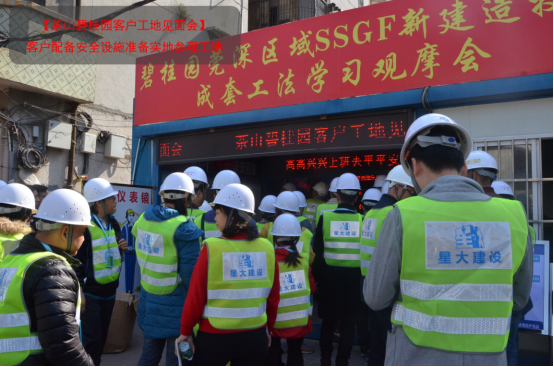person: (362, 111, 535, 367), (174, 184, 282, 367), (1, 187, 95, 367), (129, 171, 204, 367), (312, 173, 365, 367), (82, 177, 124, 367), (270, 212, 316, 367)
reflective_vest: (389, 196, 529, 354), (1, 249, 83, 367), (200, 236, 275, 331), (130, 210, 190, 295), (274, 258, 310, 329), (321, 210, 365, 268), (359, 206, 393, 276), (88, 219, 124, 285)
safety_helmet: (400, 111, 474, 193), (28, 188, 95, 257), (213, 183, 256, 234), (158, 171, 197, 212), (1, 181, 37, 224), (83, 177, 120, 218), (464, 150, 500, 188), (270, 212, 304, 249), (384, 164, 418, 200), (182, 165, 210, 208), (210, 169, 241, 198), (334, 173, 360, 206), (272, 190, 300, 219), (490, 179, 517, 199), (360, 188, 384, 210), (258, 193, 277, 219)
